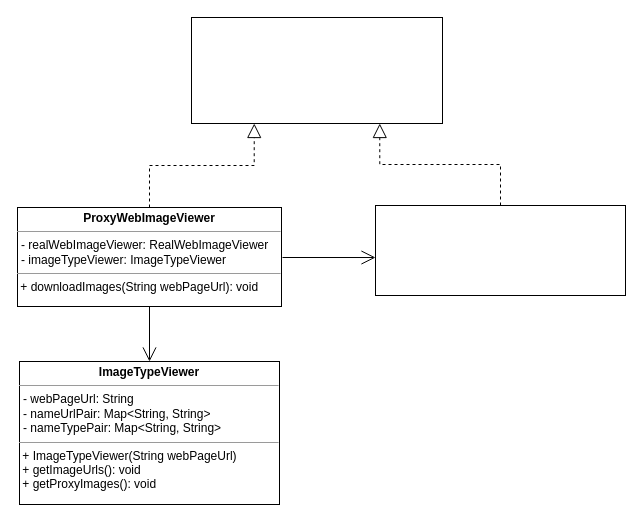
The diagram is 643 pixels wide and 522 high, and some of its shapes have lost their labels. Each missing label, with the centre of its shape:
"<<Interface>> WebImageViewer + downloadImages(String webPageUrl): void" goes at pixel 316 70.
"RealWebImageViewer + downloadImages(String webPageUrl): void" goes at pixel 500 250.
